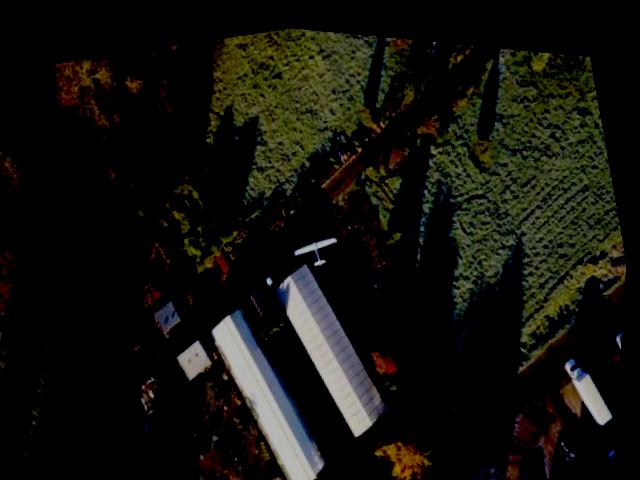uav: (283, 206, 356, 277)
